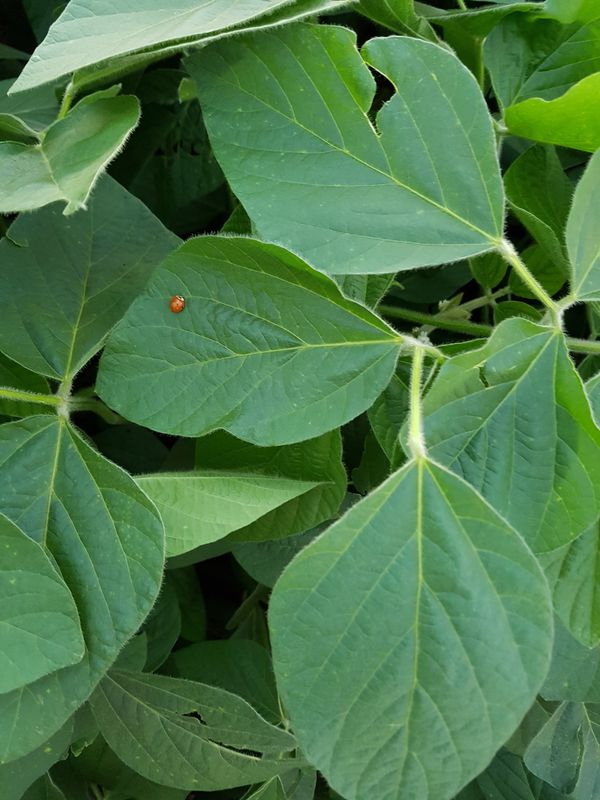Coccinellidae: (162, 286, 193, 319)
